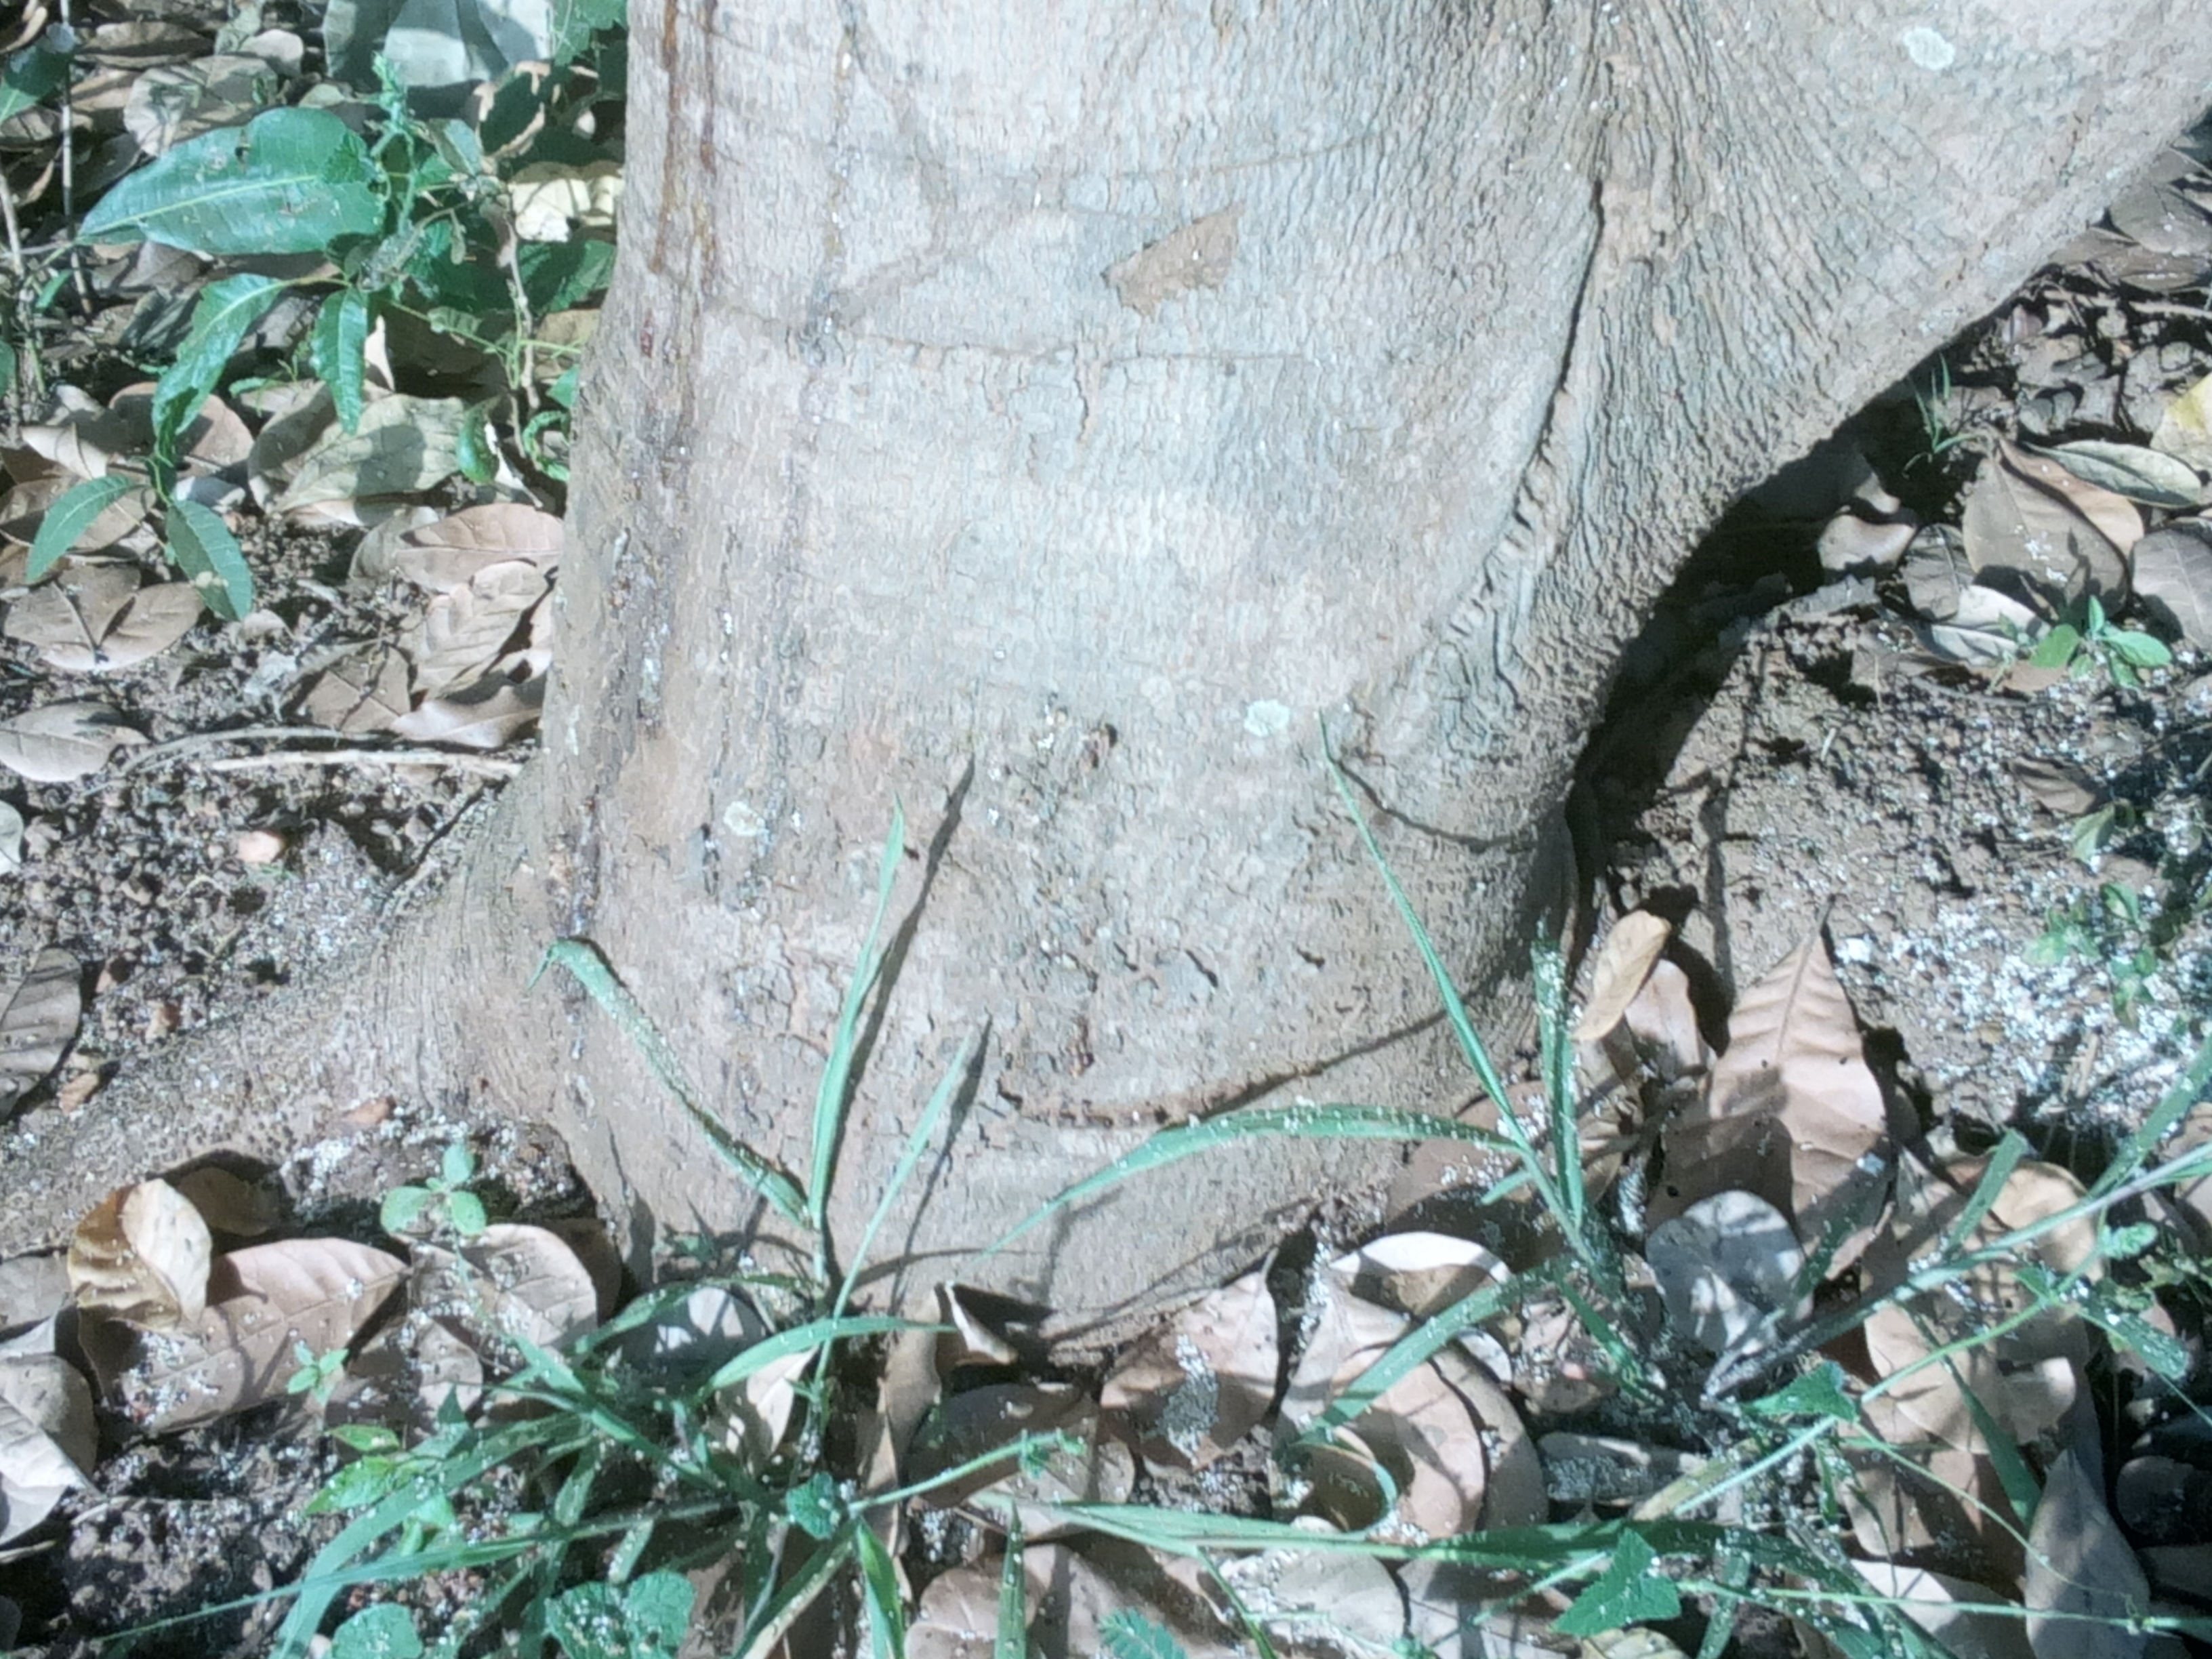Termites: (514, 779, 1458, 1251)
